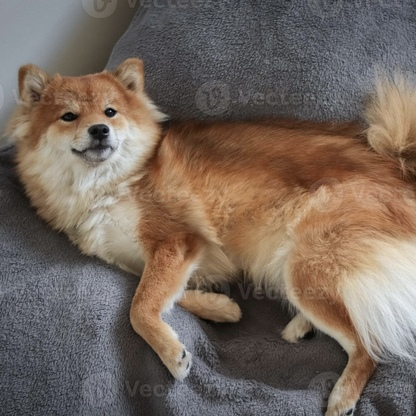shiba: (1, 49, 416, 416)
